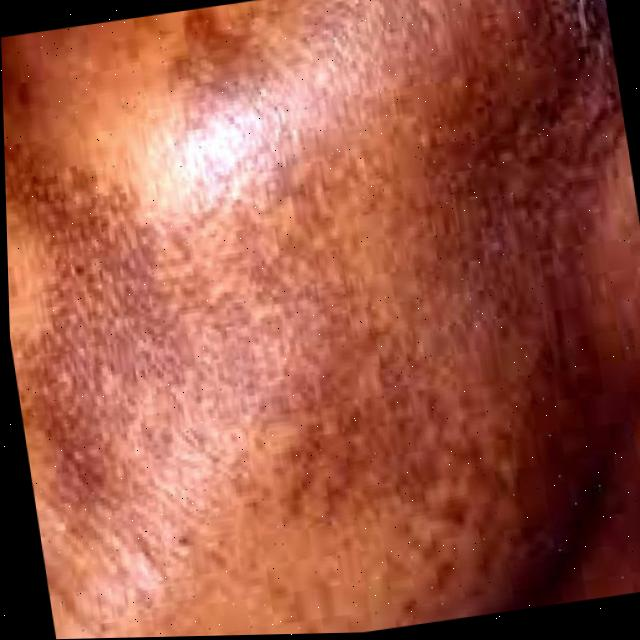Melasma: (0, 1, 633, 640)
